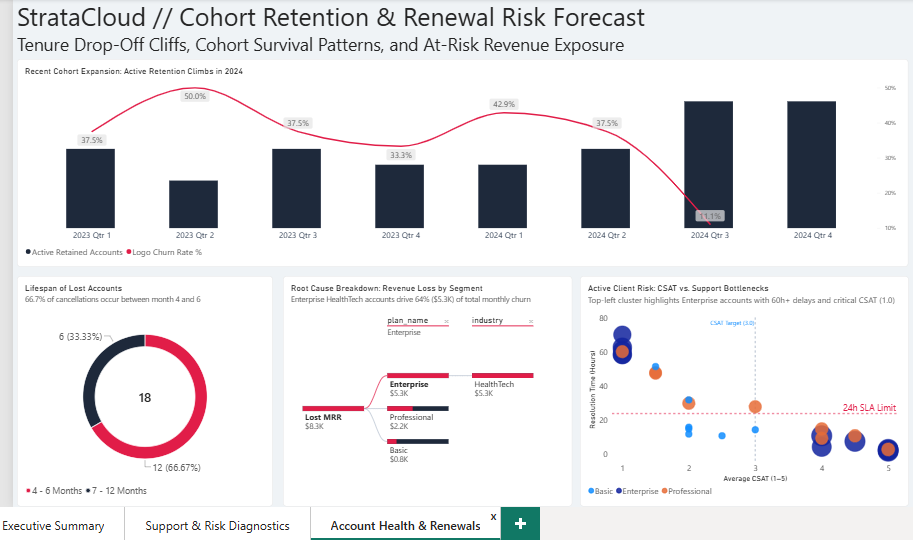

What the dashboard file says about the page in this screenshot:
{"tool":"powerbi","page":{"name":"Account Health & Renewals","canvas":[1920,1080],"ordinal":2},"visuals":[{"type":"textbox","box":[9.1,0,1894.9,127.5],"z":0},{"type":"lineClusteredColumnComboChart","title":"Recent Cohort Expansion: Active Retention Climbs in 2024","fields":{"Category":["vw_customer_retention_summary.start_date.Variation.Date Hierarchy.Year","vw_customer_retention_summary.start_date.Variation.Date Hierarchy.Quarter"],"Y":["Measure.Active Retained Accounts"],"Y2":["Measure.Logo Churn Rate %"]},"box":[9.1,127.5,1894.9,441.9],"z":1000},{"type":"donutChart","title":"Lifespan of Lost Accounts","fields":{"Category":["vw_customer_retention_summary.Tenure Bucket"],"Y":["Measure.Churned Accounts"]},"box":[9.1,589.9,544.3,489.7],"z":2000},{"type":"decompositionTreeVisual","title":"Root Cause Breakdown: Revenue Loss by Segment","fields":{"Analyze":["Measure.Total Monthly Revenue Lost"],"ExplainBy":["vw_customer_retention_summary.plan_name","vw_customer_retention_summary.industry"]},"box":[574,589.9,614.9,489.7],"z":3000},{"type":"scatterChart","title":"Active Client Risk: CSAT vs. Support Bottlenecks","fields":{"Category":["vw_customer_retention_summary.company_name"],"Series":["vw_customer_retention_summary.plan_name"],"Size":["Sum(vw_customer_retention_summary.monthly_revenue)"],"X":["Measure.Avg Csat score"],"Y":["Measure.Avg Resolution time"]},"box":[1204.8,589.9,699.2,489.7],"z":4000},{"type":"textbox","box":[1765.1,856.4,113.9,31.9],"z":5000}]}

Visuals, with their boxes on the page's 1920x1080 design canvas (x1, y1, x2, y2). These are canvas units, not pixel positions in the 913x540 screenshot, which may show the page scaled, cropped or inside an application window:
textbox: crop(9, 0, 1904, 128)
"Recent Cohort Expansion: Active Retention Climbs in 2024" lineClusteredColumnComboChart: crop(9, 128, 1904, 569)
"Lifespan of Lost Accounts" donutChart: crop(9, 590, 553, 1080)
"Root Cause Breakdown: Revenue Loss by Segment" decompositionTreeVisual: crop(574, 590, 1189, 1080)
"Active Client Risk: CSAT vs. Support Bottlenecks" scatterChart: crop(1205, 590, 1904, 1080)
textbox: crop(1765, 856, 1879, 888)
